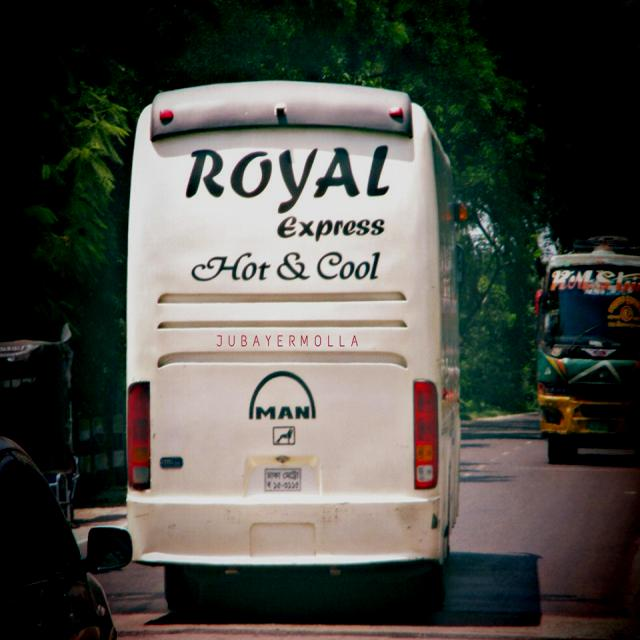bus: (128, 79, 461, 612)
